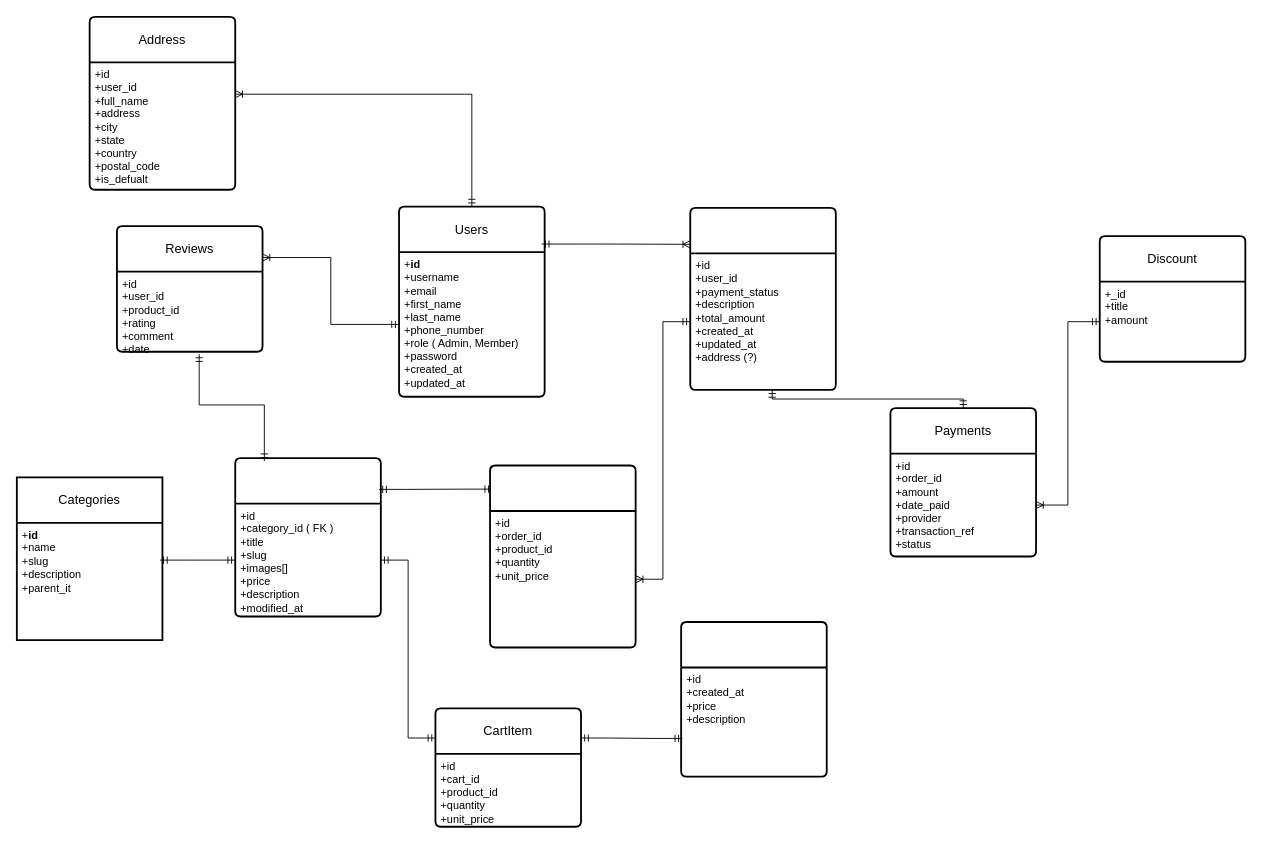
Image size: 1261x854. Some labels were removed from this diagram. Here are the shapes that lost their labels. From the top down, the box of each, then its label:
(689, 207, 836, 390): Orders
(234, 457, 381, 617): Products
(489, 464, 636, 648): OrderItem
(680, 621, 827, 777): Carts
